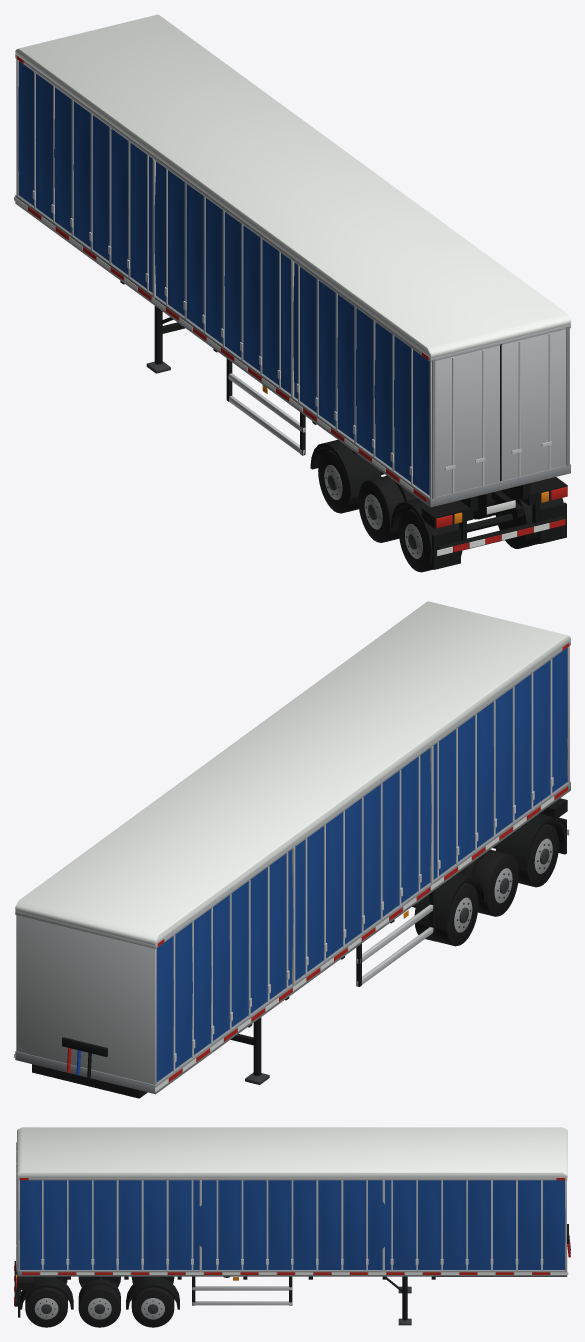
Rendered from reboque-lona.glb.
The picture shows the model from 3 angles, top to bottom: view 1: azimuth 30°, elevation 25°; view 2: azimuth 150°, elevation 25°; view 3: azimuth 270°, elevation 25°; orthographic projection. The views are drawn at different scales.
Parts seen in each view (by area): view 1: corpo; view 2: corpo; view 3: corpo.
Part boxes in pixels (x1,y1,x2,y2): corpo: (14, 14, 570, 572); corpo: (14, 601, 570, 1098); corpo: (14, 1127, 570, 1327).
Size of the model in its own units: 2.68 by 4.24 by 13.59.
Materials: 1 (1 with a texture image).
